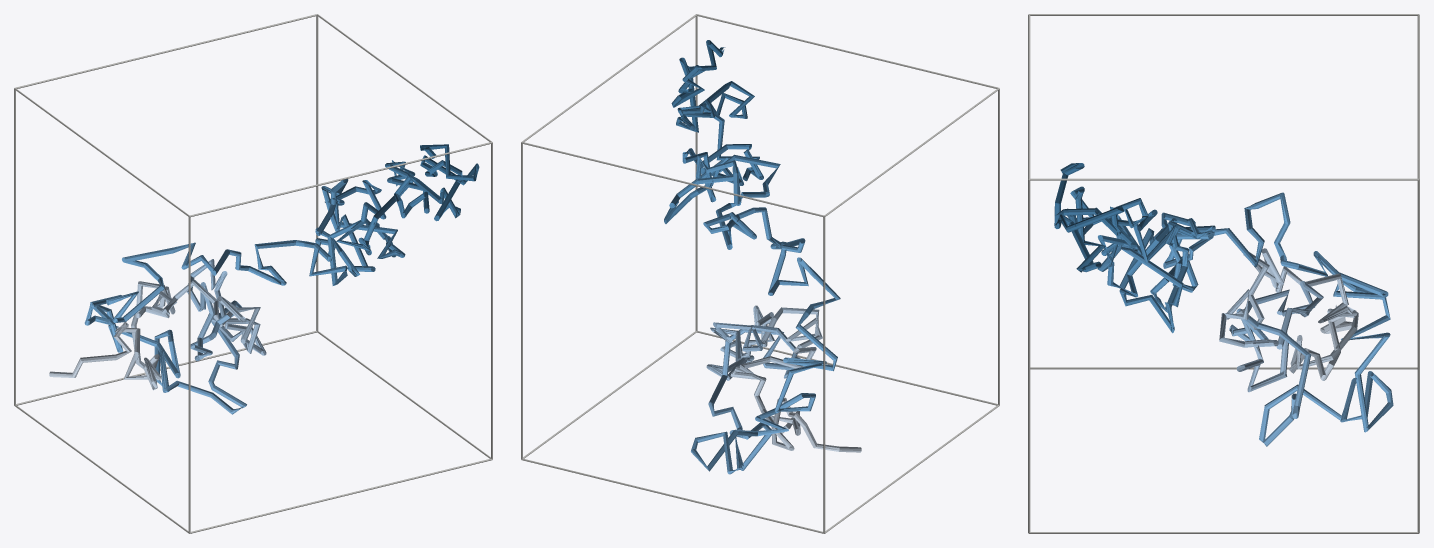
Rendered from SP08_calm.glb.
The picture shows the model from 3 angles, left to right: view 1: azimuth 30°, elevation 25°; view 2: azimuth 150°, elevation 25°; view 3: azimuth 270°, elevation 25°; orthographic projection. The views are drawn at different scales.
Visible parts, largest first — view 1: geometry_0, geometry_1; view 2: geometry_0, geometry_1; view 3: geometry_0, geometry_1.
Boxes of the visible parts, x1=… form: geometry_0: x1=49, y1=144, x2=479, y2=414; geometry_1: x1=14, y1=14, x2=492, y2=533; geometry_0: x1=664, y1=40, x2=861, y2=474; geometry_1: x1=521, y1=14, x2=999, y2=533; geometry_0: x1=1054, y1=163, x2=1393, y2=446; geometry_1: x1=1028, y1=14, x2=1419, y2=533.
Bounding box in the file's own units: 0.3029 × 0.3014 × 0.3016.
